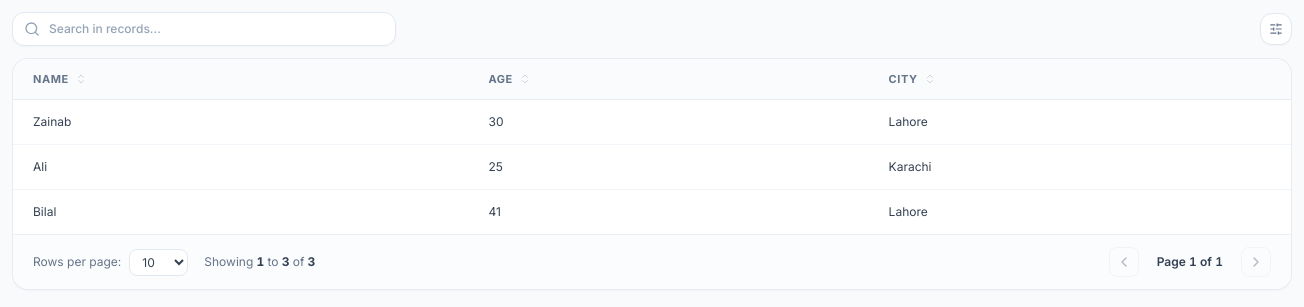
Test: DataTable › the clear-search button has an accessible name and empties the box
This screenshot has width=1304, height=307.
Type "ali" into the field with placeholder "Search in records..." at (204, 29), box x1=12 y1=12 x2=396 y2=46
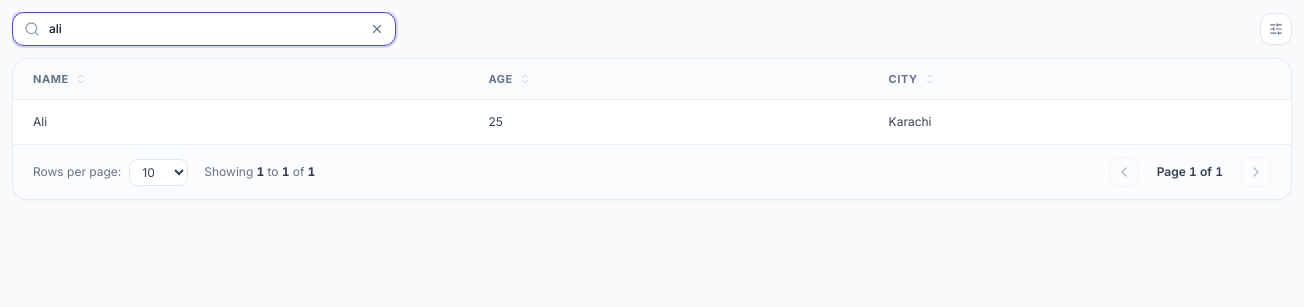
Click the button named "Clear search" at (377, 29), box x1=368 y1=20 x2=386 y2=38
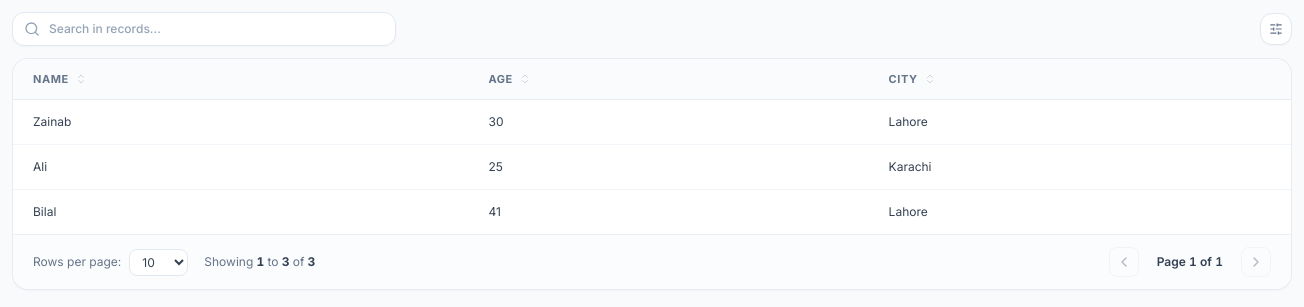
Now the field with placeholder "Search in records..." is empty, box x1=12 y1=12 x2=396 y2=46
